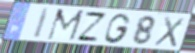8: (132, 14, 158, 46)
G: (103, 12, 132, 44)
I: (31, 7, 52, 40)
M: (45, 8, 86, 42)
X: (152, 15, 186, 49)
Z: (75, 10, 109, 43)
